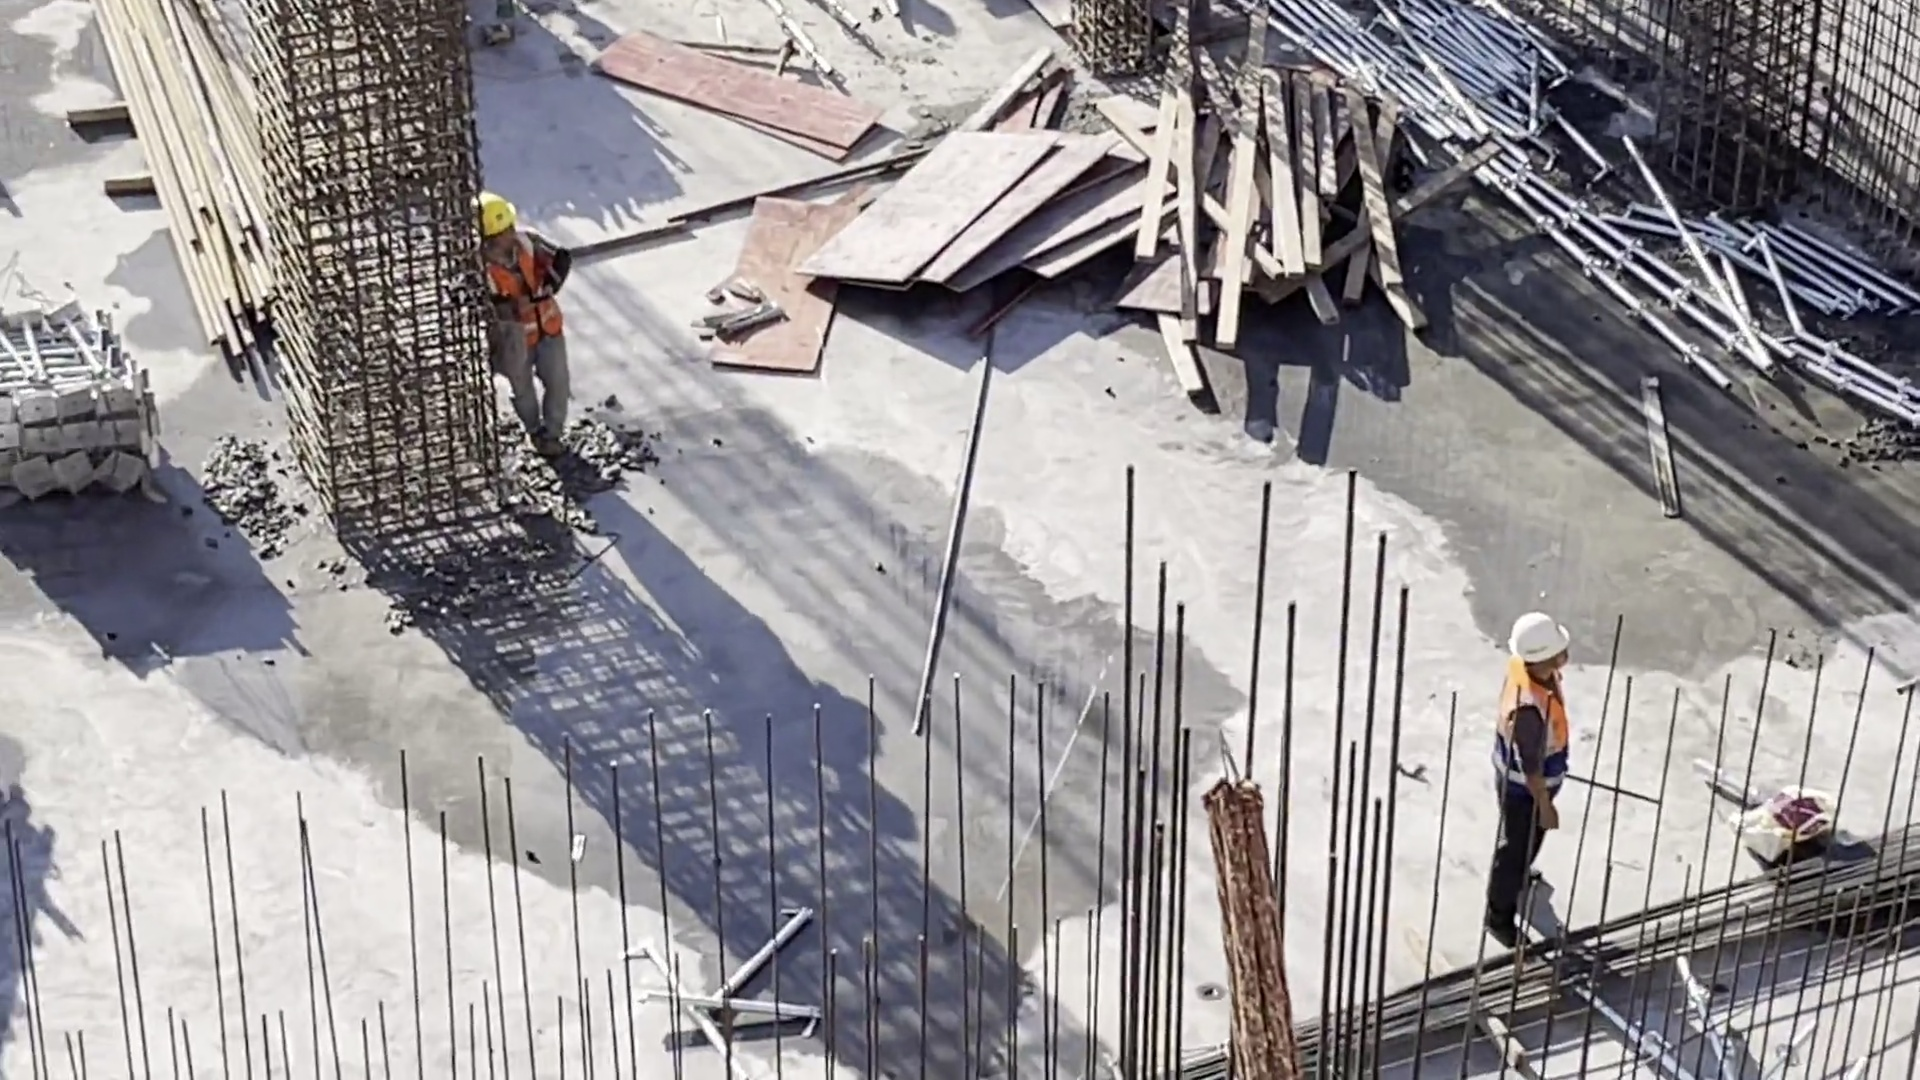board: (833, 121, 1135, 305)
helmet: (1506, 609, 1581, 665), (471, 197, 525, 241)
person: (459, 194, 612, 489), (1488, 615, 1573, 941)
rebar: (1302, 822, 1905, 1080)
scaffold: (1, 293, 182, 508), (1677, 187, 1868, 343), (1372, 1, 1521, 176)
vest: (1493, 669, 1572, 791), (479, 244, 577, 339)
wood: (1156, 33, 1416, 366)
